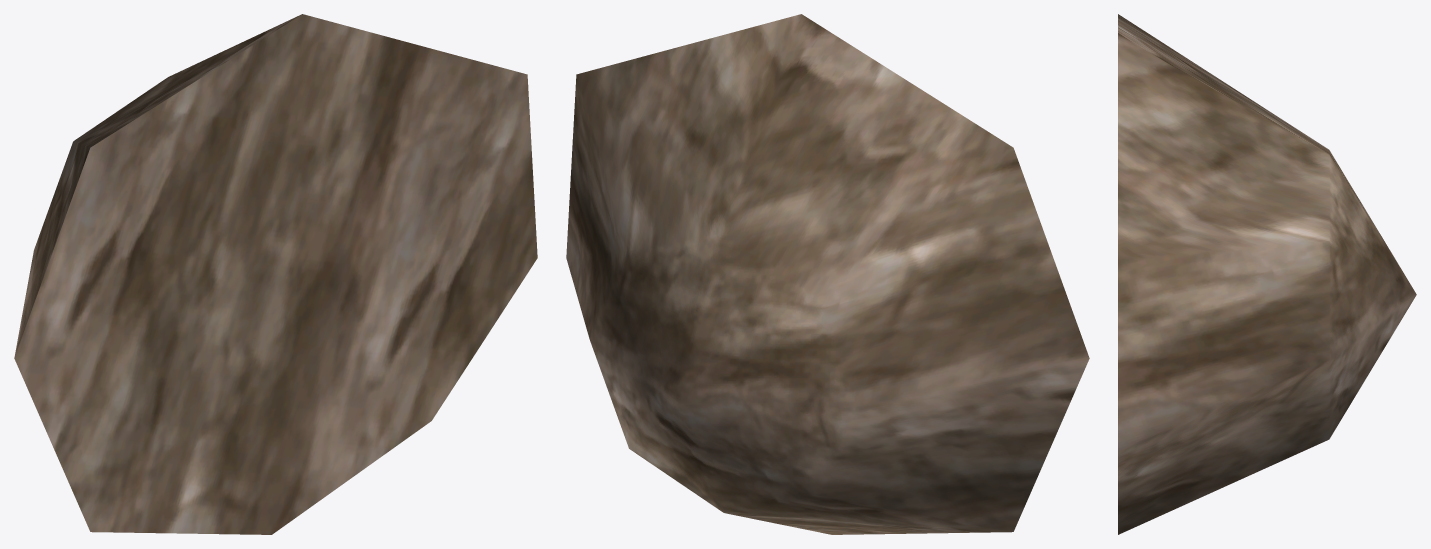
File: INST_OH_ROCK_06.fbx
The picture shows the model from 3 angles, left to right: view 1: azimuth 30°, elevation 25°; view 2: azimuth 150°, elevation 25°; view 3: azimuth 270°, elevation 25°; orthographic projection.
Parts seen in each view (by area): view 1: INST_OH_ROCK_06; view 2: INST_OH_ROCK_06; view 3: INST_OH_ROCK_06.
Part boxes in pixels (x1,y1,x2,y2): INST_OH_ROCK_06: (14,14,537,534); INST_OH_ROCK_06: (566,14,1089,534); INST_OH_ROCK_06: (1118,14,1416,534).
Size of the model in its own units: 6726 by 6306 by 3338.
1 material, 1 textured.
